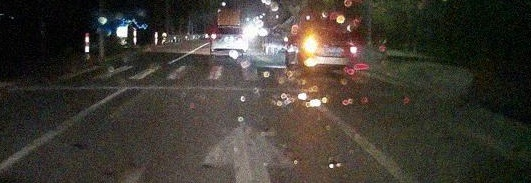L_light: (303, 43, 315, 51), (211, 34, 217, 39)
R_light: (350, 45, 356, 54), (242, 35, 247, 40)
T_light: (323, 28, 329, 30), (227, 28, 232, 30)
night-left: (301, 25, 356, 73)
night-no: (210, 26, 248, 57)
